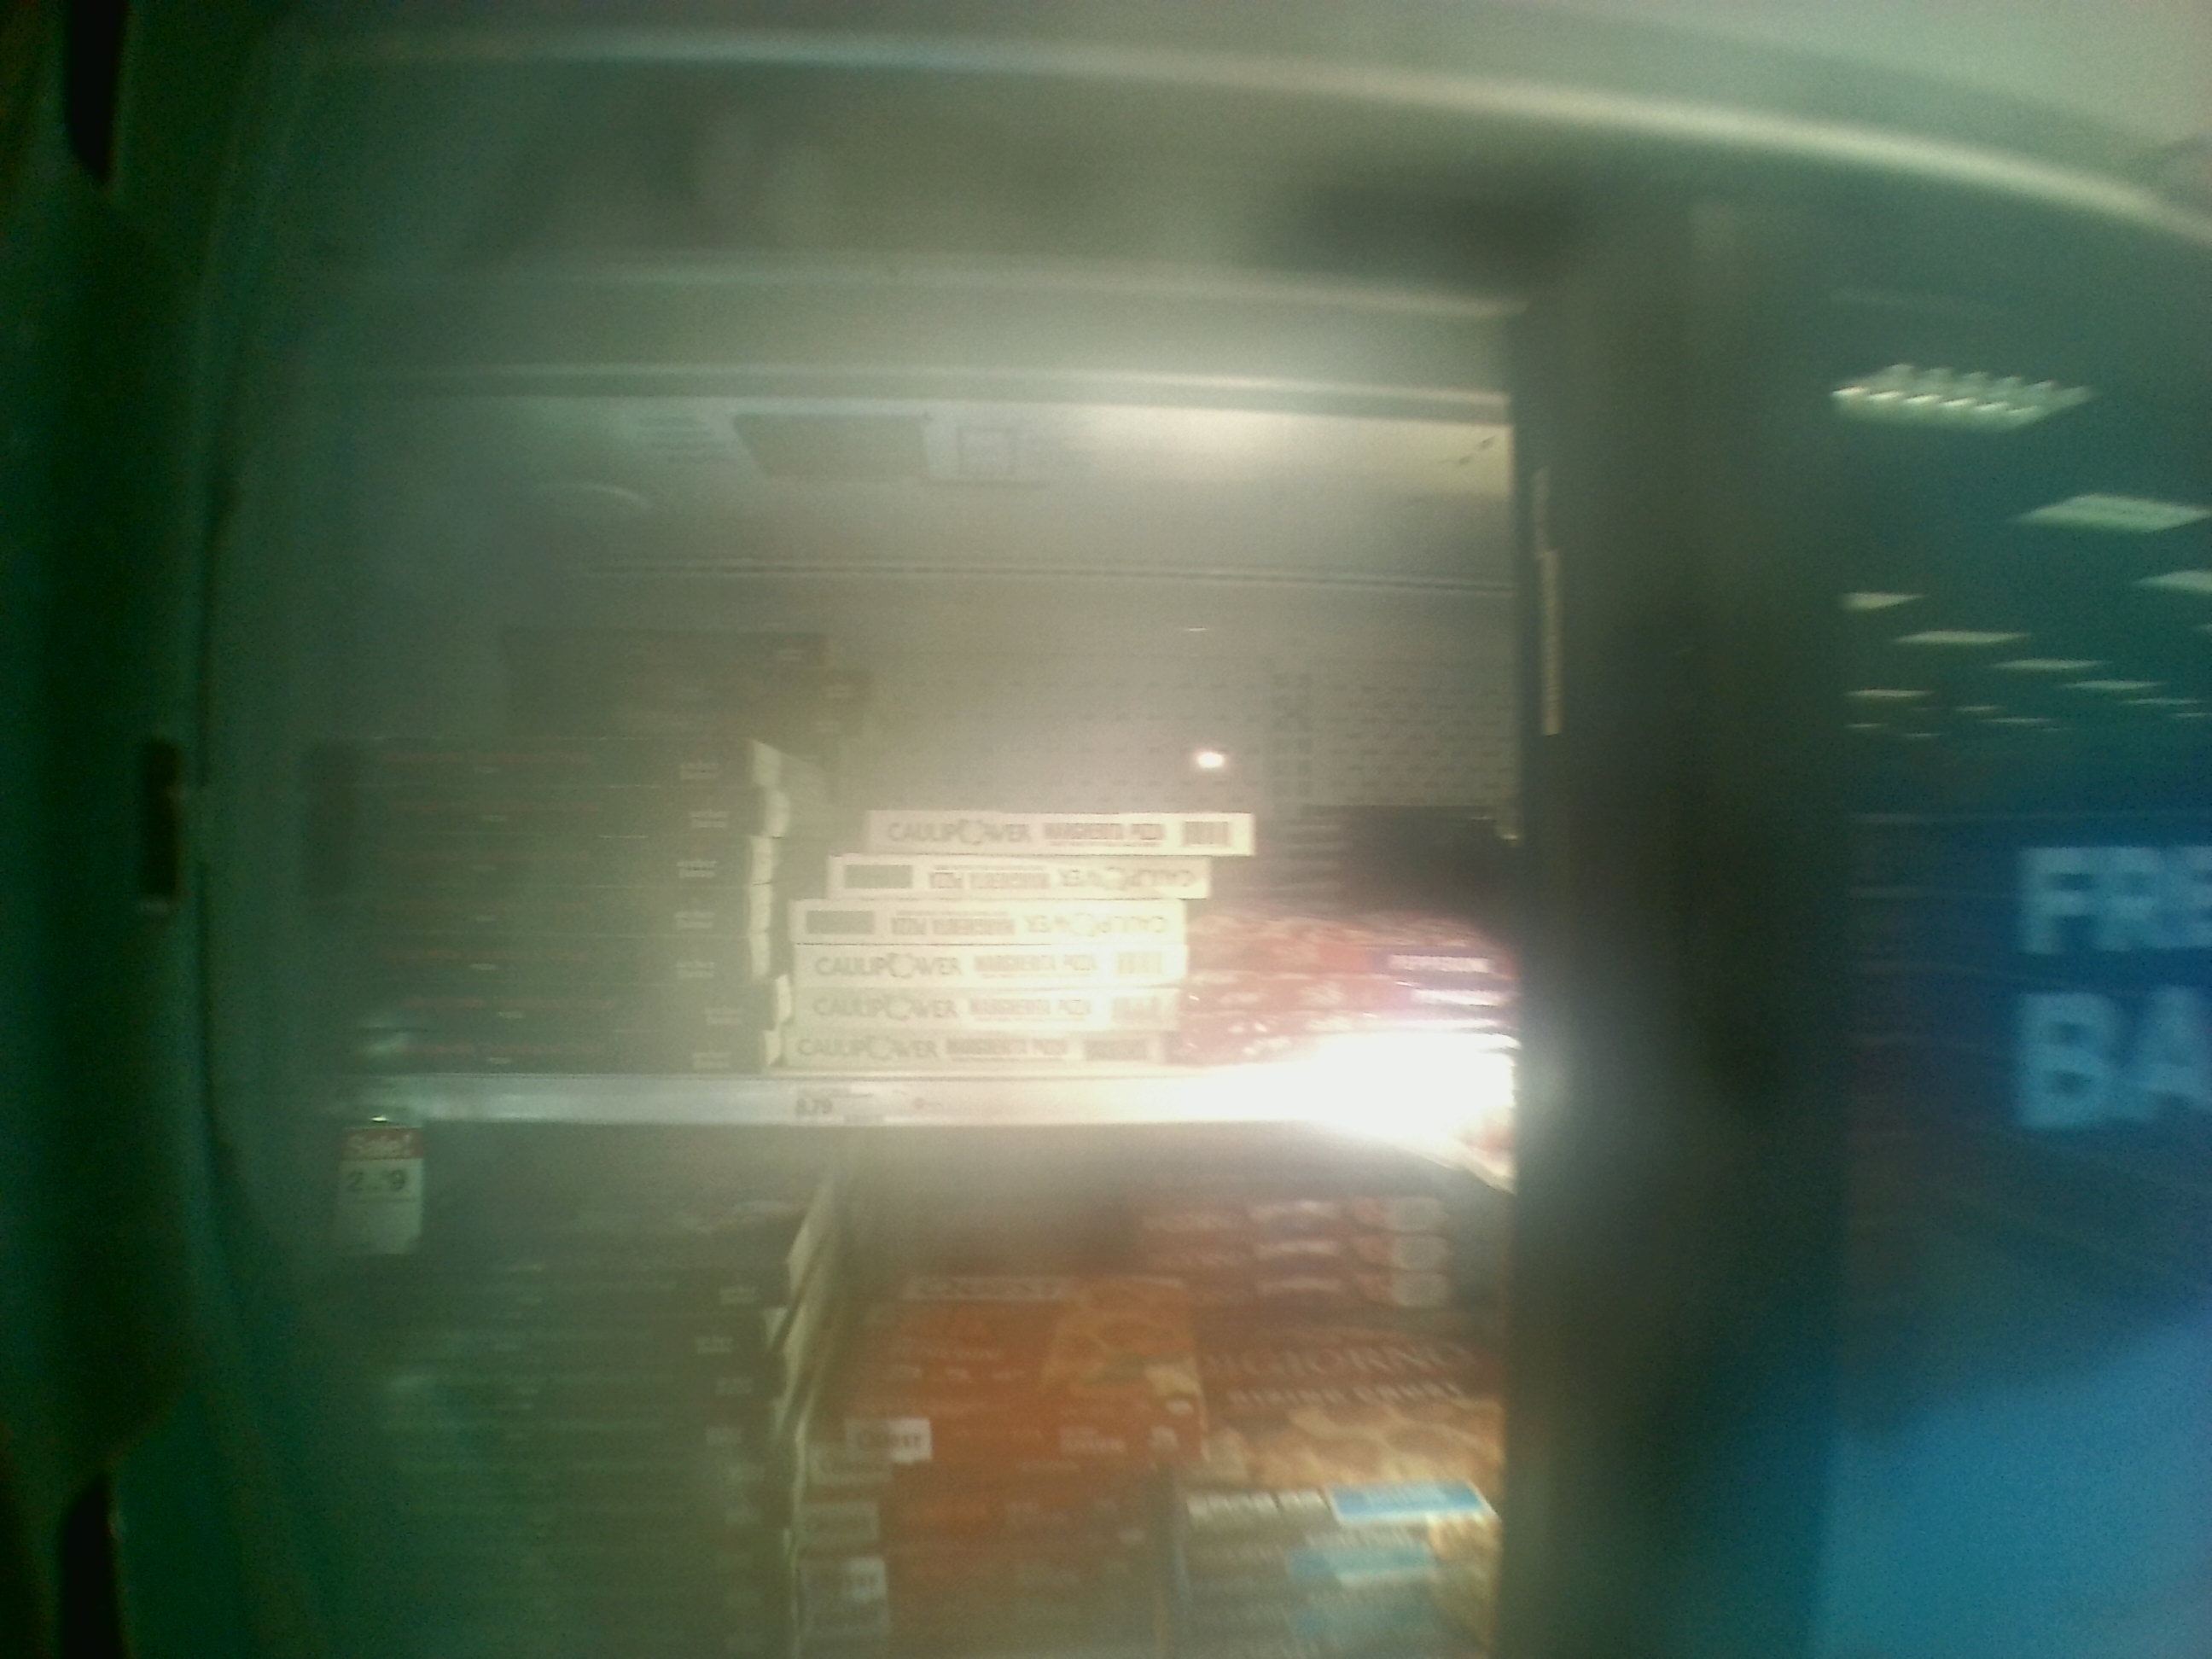shelf: (329, 476, 1493, 1129)
